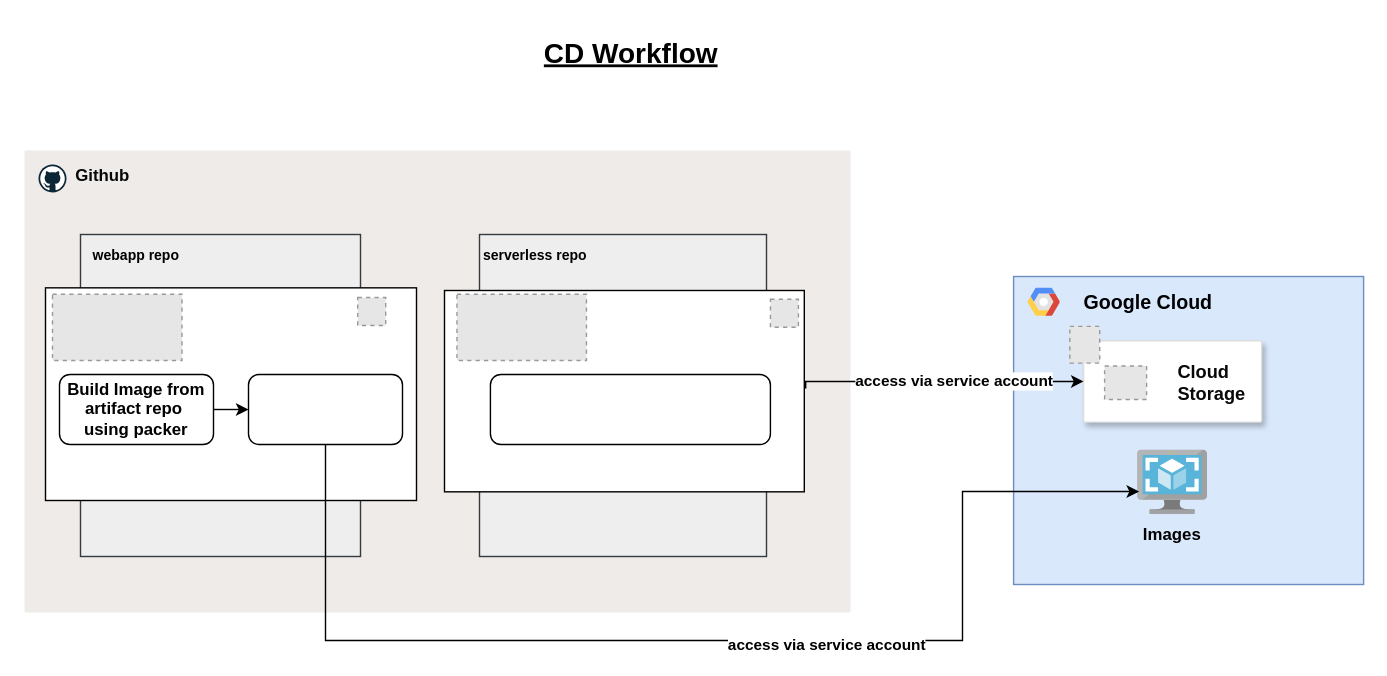
Some shapes in this 1387 by 676 pixel diagram are drawn without their labels. Grey dashed boxes stand in for pictures. The centre of each missing label's shape, as x and y in pixels:
".zip artifacts and create a new version in cloud storage bucket" goes at [629,408].
"Push Image to Gcloud Images" goes at [324,408].
